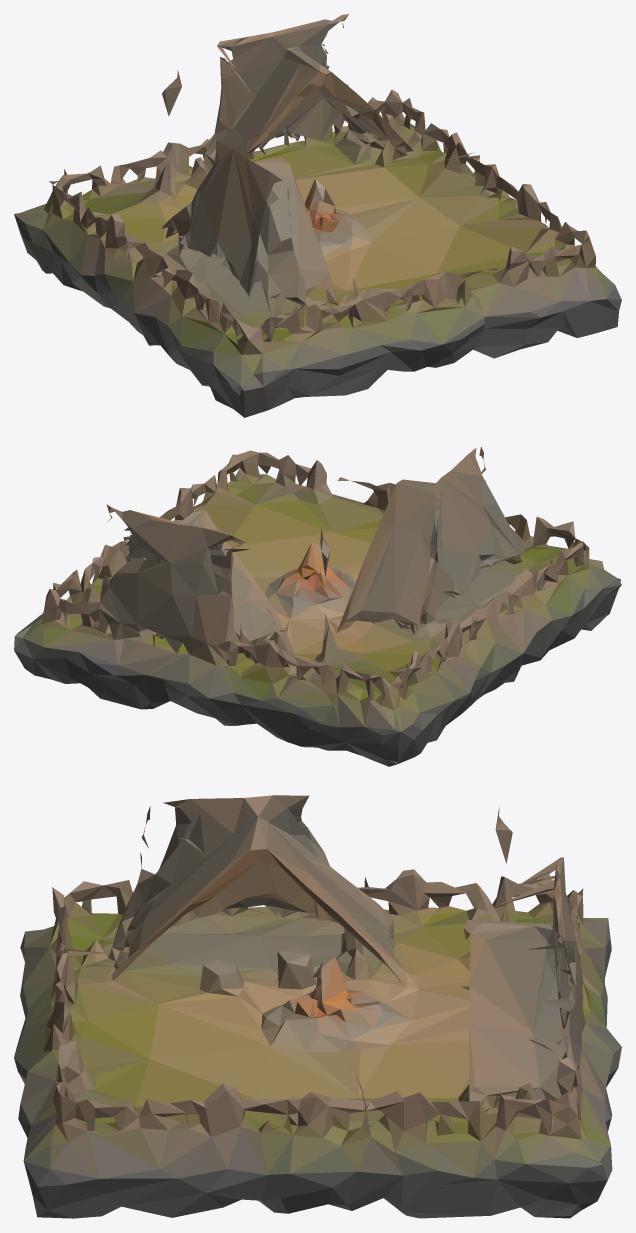
File: orc_camp.glb
3 renders of one model, top to bottom at view 1: azimuth 30°, elevation 25°; view 2: azimuth 150°, elevation 25°; view 3: azimuth 270°, elevation 25°, orthographic. The views are drawn at different scales.
Parts seen in each view (by area): view 1: geometry_0; view 2: geometry_0; view 3: geometry_0.
Part boxes in pixels (x1,y1,x2,y2): geometry_0: (14, 14, 621, 417); geometry_0: (14, 446, 621, 766); geometry_0: (14, 795, 621, 1218).
Size of the model in its own units: 1.82 by 0.8821 by 1.88.
